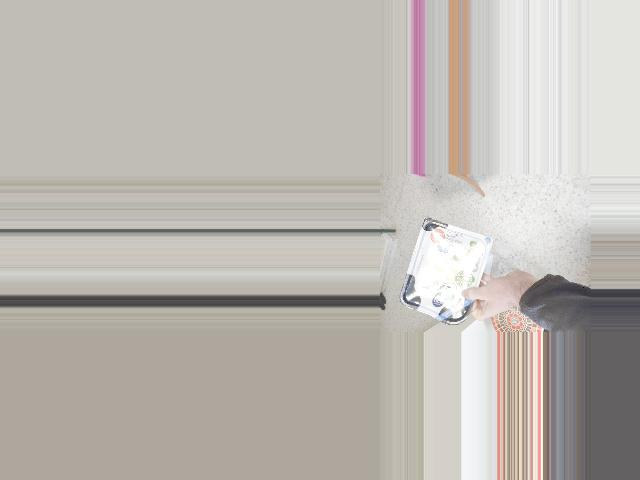cheese: (409, 229, 475, 319)
